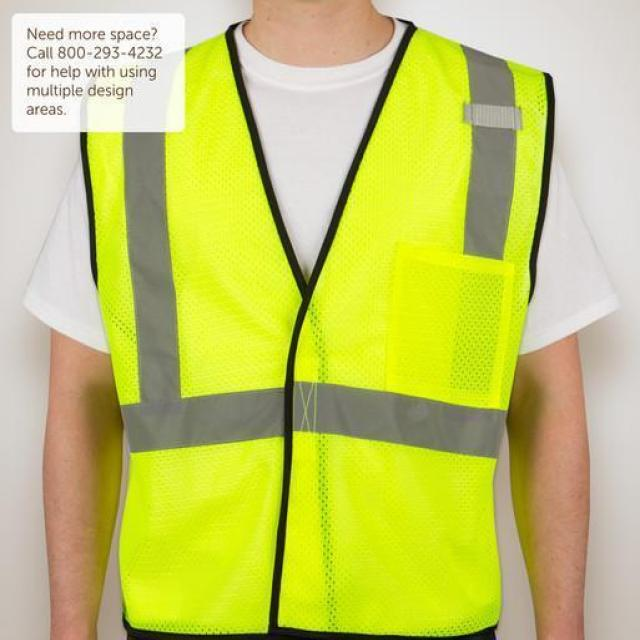Vest: (75, 21, 554, 639)
